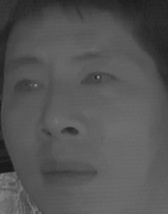eye: (80, 67, 122, 92), (10, 76, 47, 98)
mouth: (39, 152, 98, 191)
